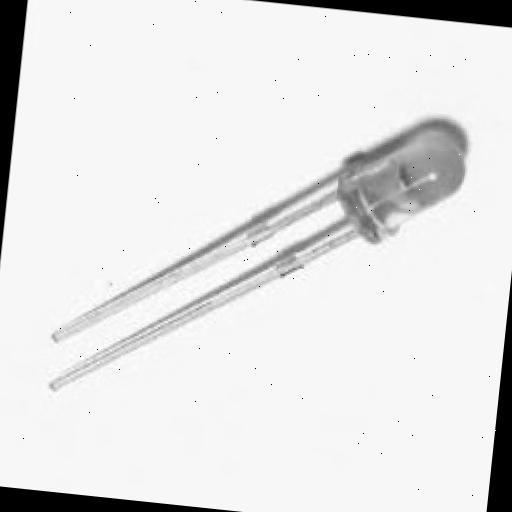LED: (34, 52, 494, 470)
